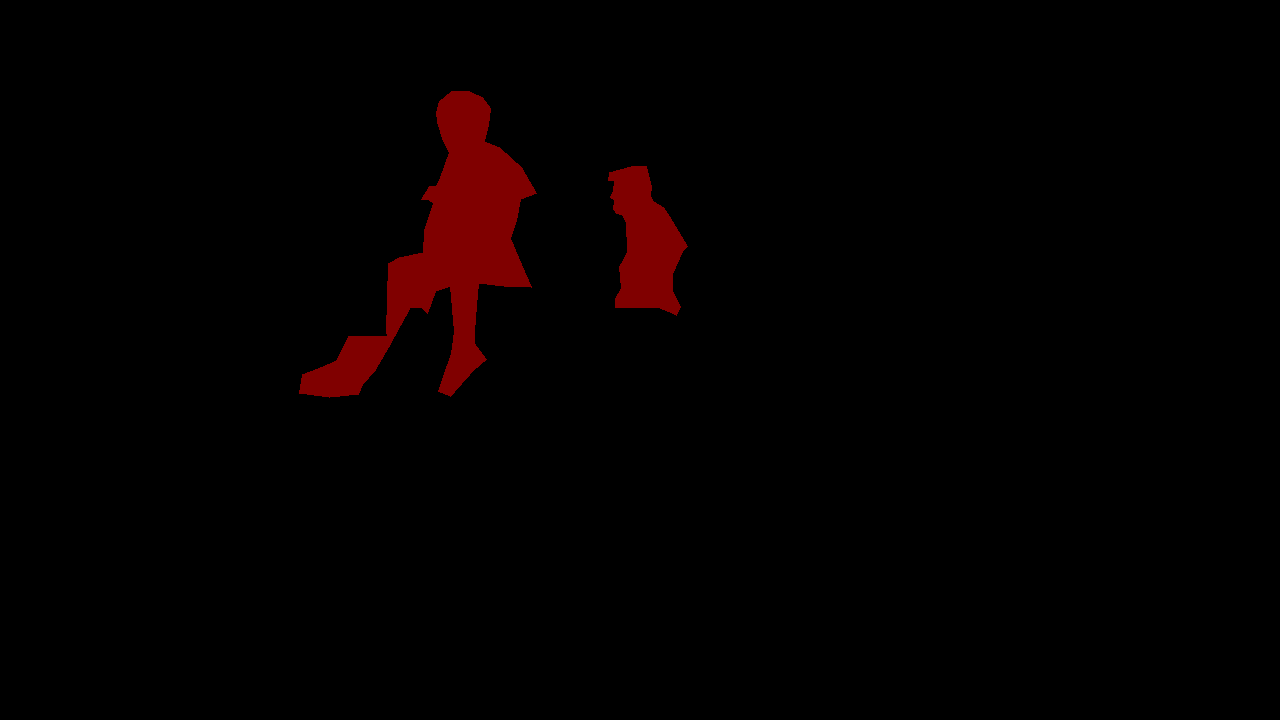person: (299, 91, 536, 397), (608, 166, 687, 315)
